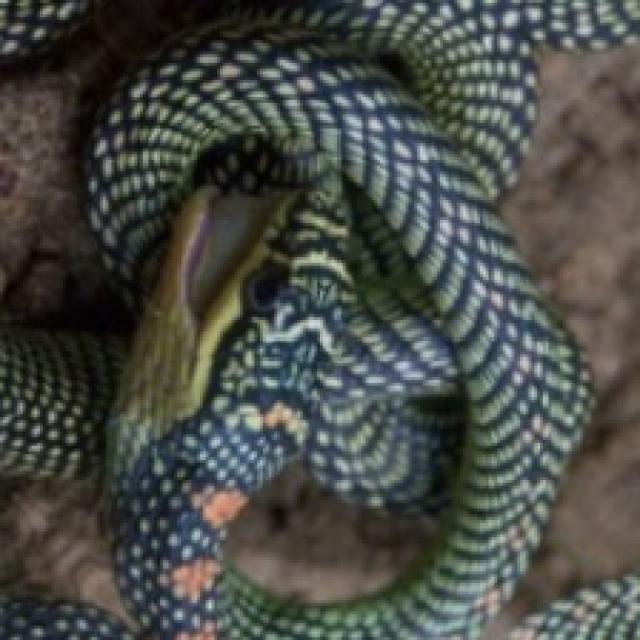paradise tree snake: (0, 0, 637, 637), (517, 574, 637, 637)
